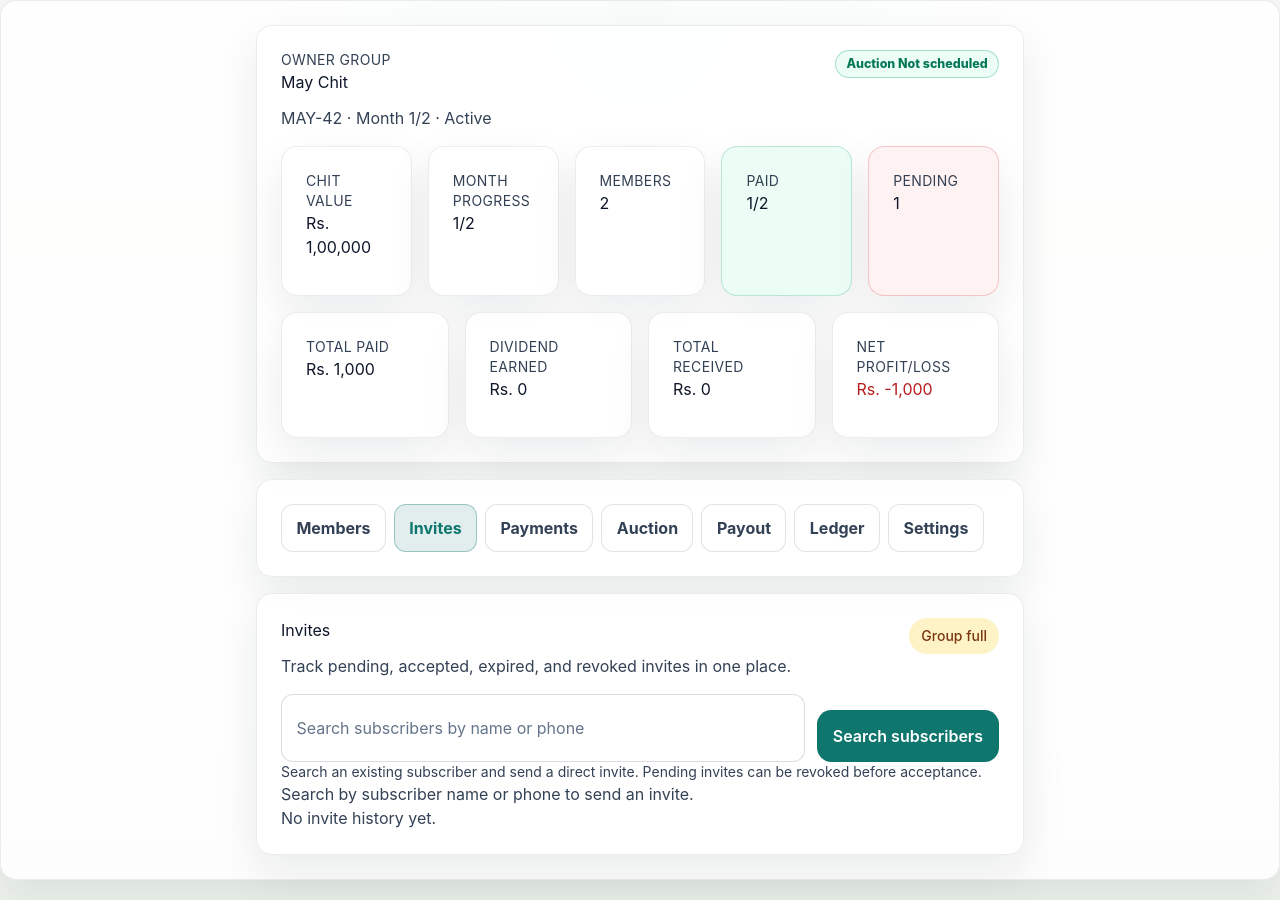
it: searches subscribers and sends an invite from the invites tab
Type "asha" into the search field with placeholder "Search subscribers by name or phone". click: [543, 728]
box: [281,694,805,762]
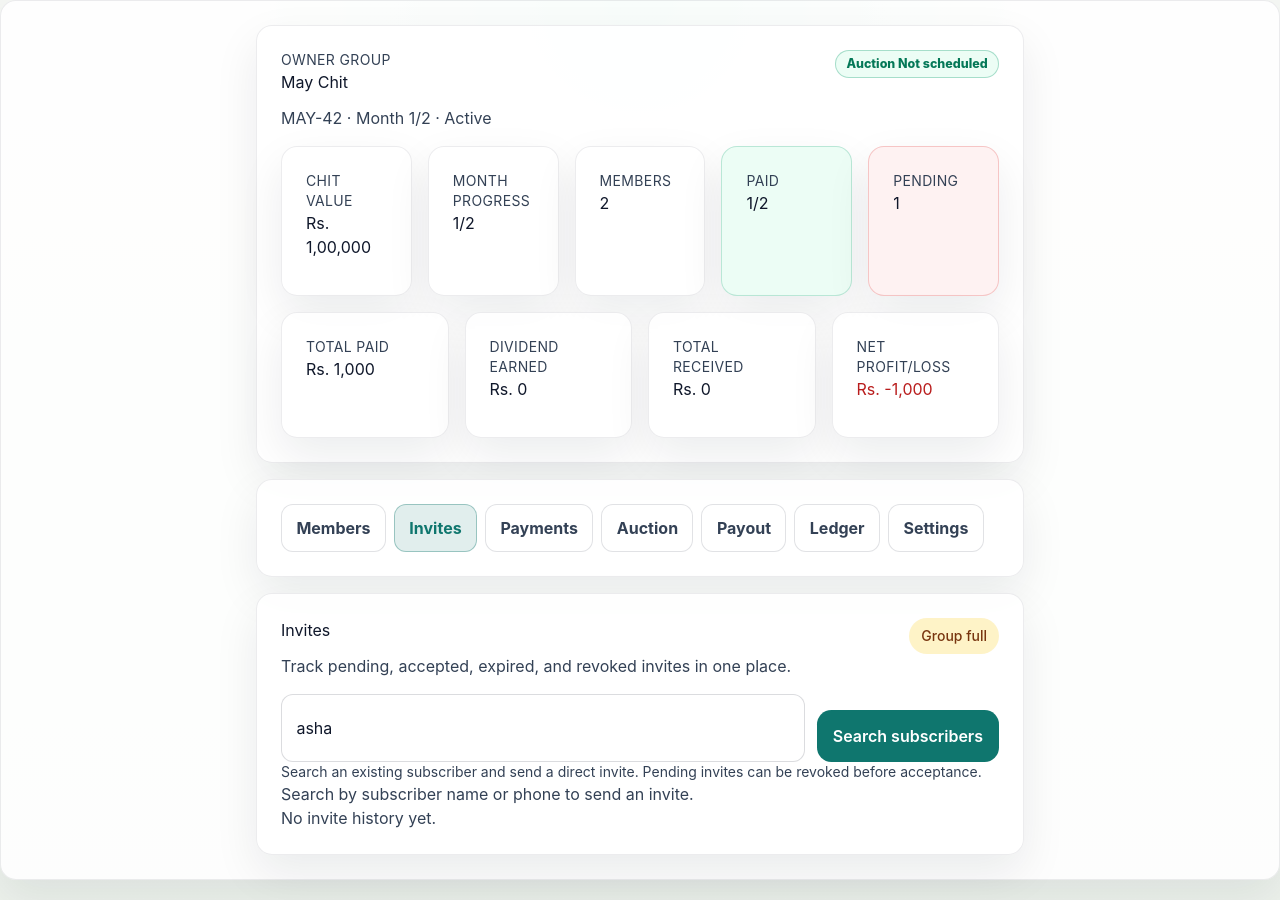
Click the button "Search subscribers". click: [908, 736]
box: [817,710,999,762]
(page scrolled)
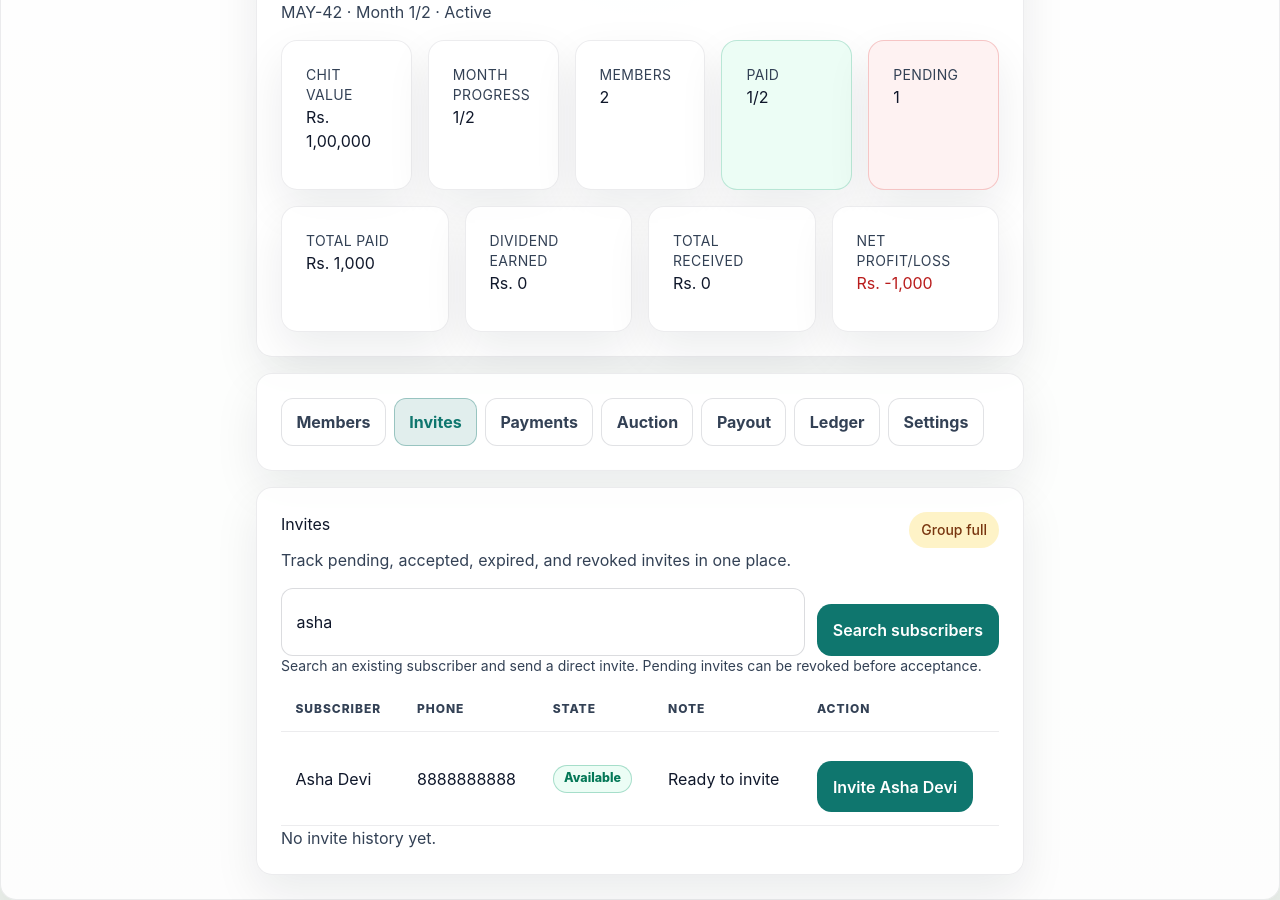
expect the text "Asha Devi" is shown: met, box [281,732,403,826]
Click the button "Invite Asha Devi". click: [895, 787]
box: [817,761,973,812]
(page scrolled)
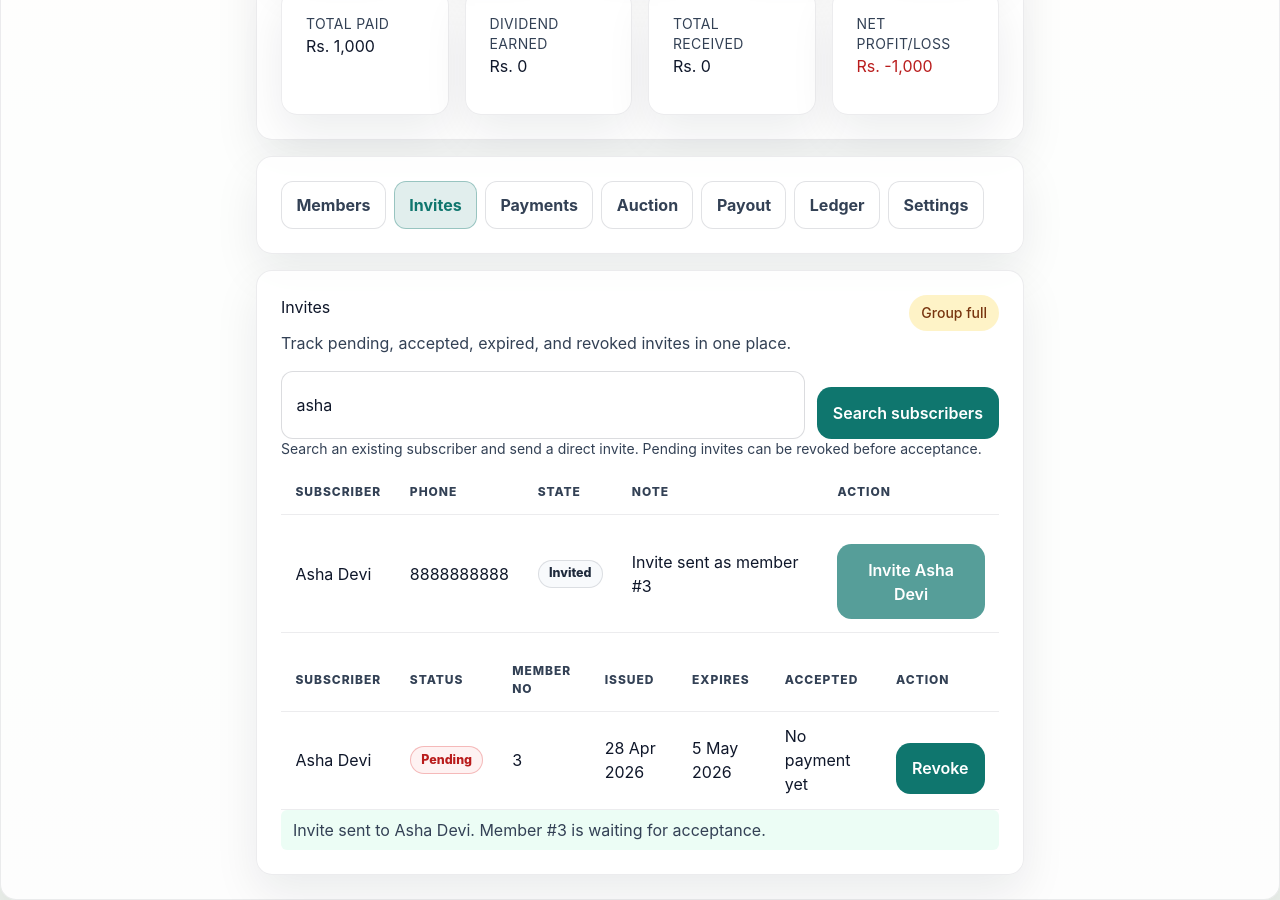
expect the text "Invite sent to Asha Devi. Member #3 is waiting for acceptance." is shown: met, box [281,810,999,850]
expect the table that starts with "Subscriber" shows "Invited": met, box [549,565,592,580]
expect the table that starts with "Subscriber" shows "Invite sent as member #3": met, box [632,552,798,596]
